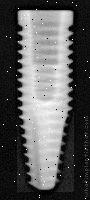Neodent: (15, 10, 74, 192)
